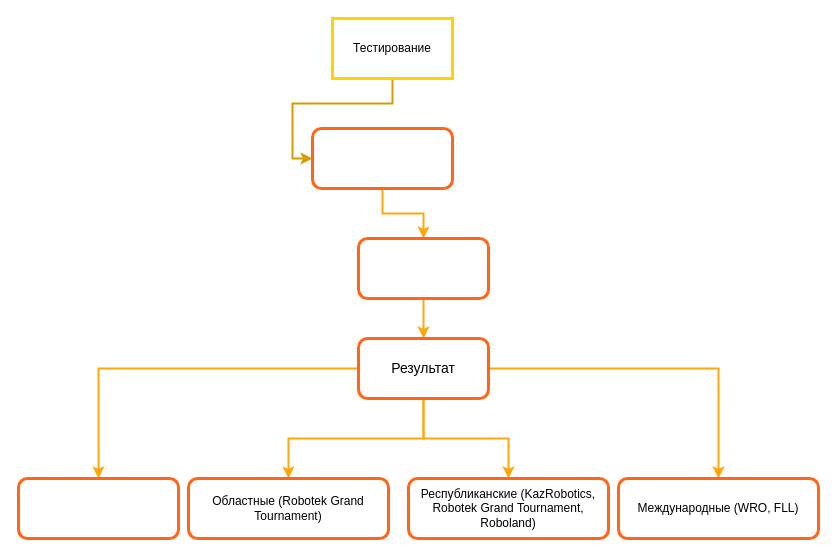
Image size: 837x557. Some labels were removed from this diagram. The shapes that lost their labels are listed below. From the top down, each one's box as (x1, y1, x2, y2) in pixels, then its label:
(310, 126, 454, 190): Математический тест
(356, 236, 490, 300): Практический тест
(16, 476, 180, 540): Городские (Robozerde)
